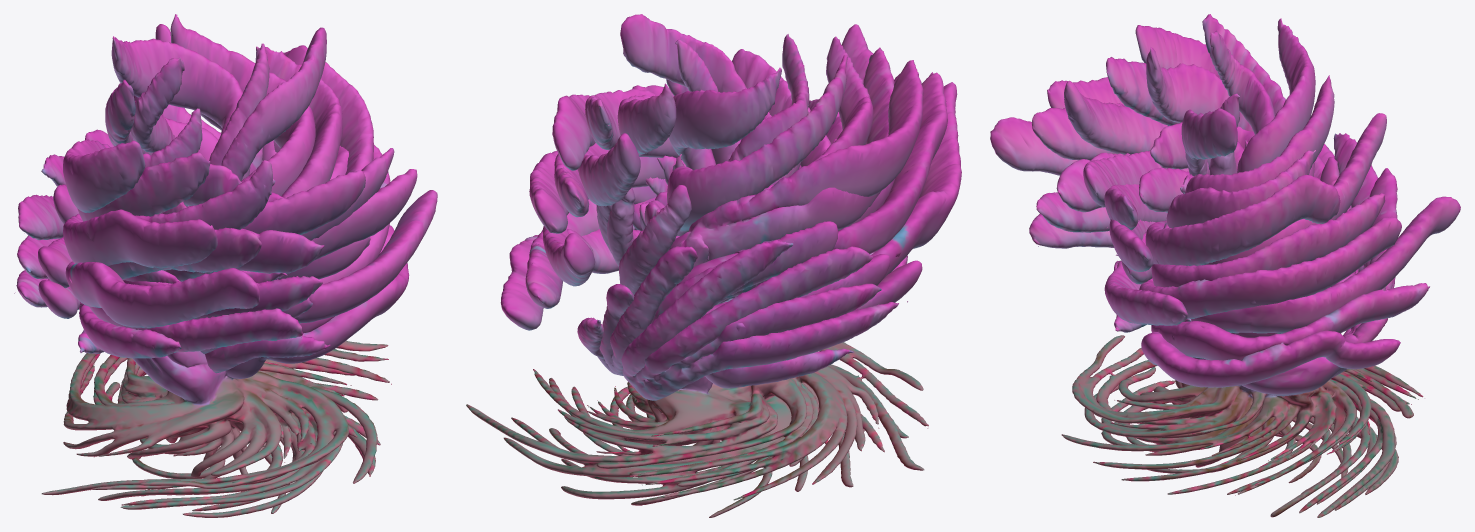
File: alien-plant.fbx
3 views of the same model, side by side, from view 1: azimuth 30°, elevation 25°; view 2: azimuth 150°, elevation 25°; view 3: azimuth 270°, elevation 25° (orthographic). The views are drawn at different scales.
Parts seen in each view (by area): view 1: Flower; view 2: Flower; view 3: Flower.
Boxes of the visible parts, x1,y1,x2,y2 form: Flower: [14, 14, 437, 517]; Flower: [466, 14, 961, 517]; Flower: [990, 14, 1460, 517].
Size of the model in its own units: 1250 by 1317 by 1348.
